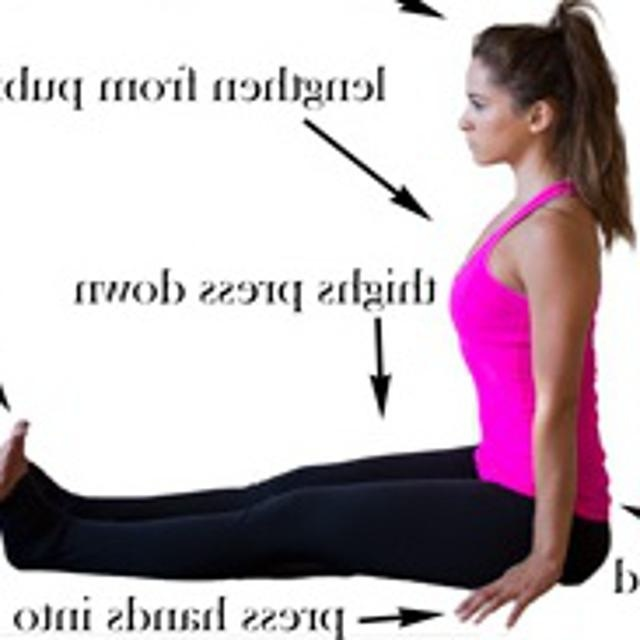Staff_Pose: (6, 25, 613, 625)
